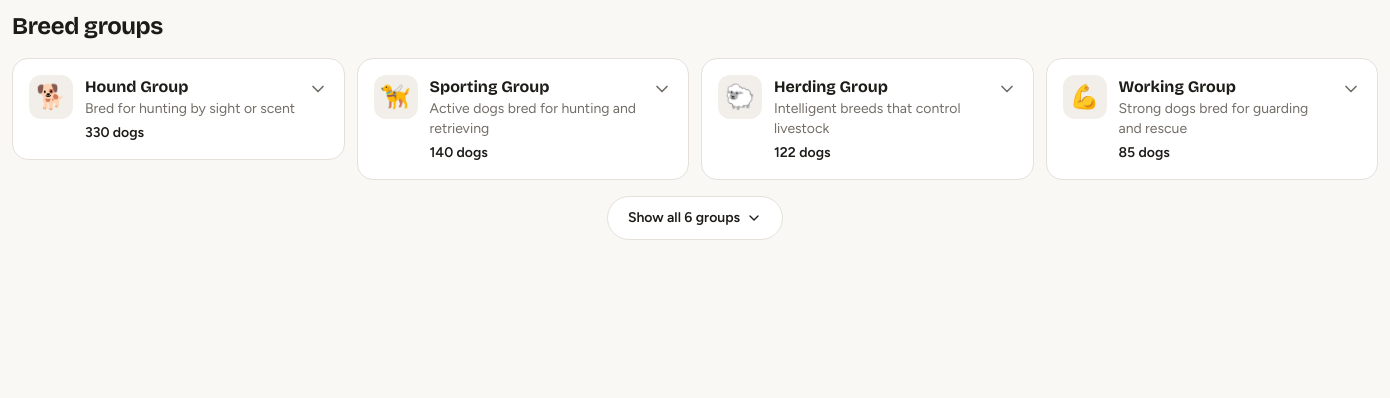
Test: BreedGroupsSection › toggles breed display when group is clicked again
Note: First click - expand
What coordinates should you click on to do the following:
click the button with test id "breed-group-hound-group"
I would click on:
 (178, 109)
Its box is [13,59,344,159].
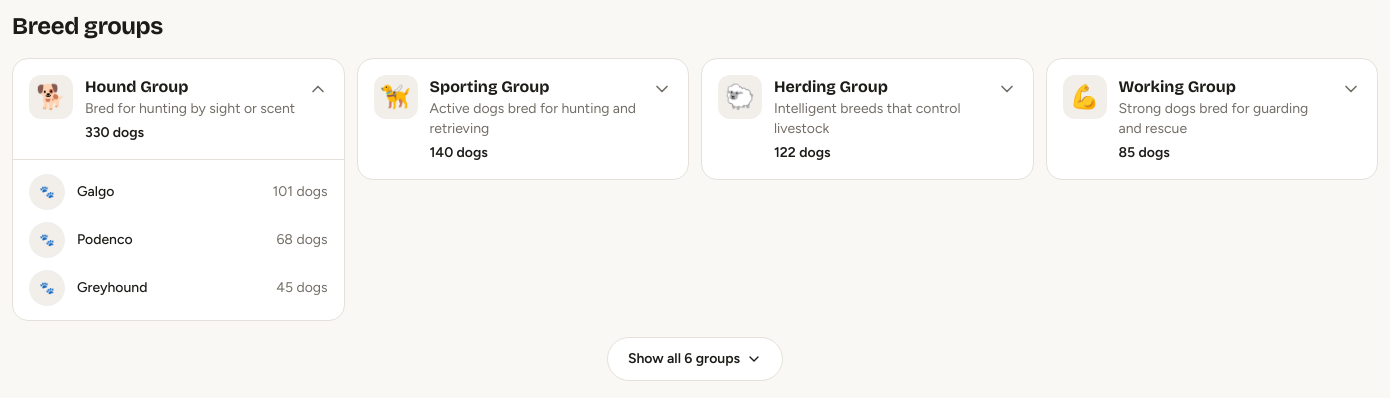
Now the text "Galgo" is shown, box [77,182,114,202]
Note: Second click - collapse
What coordinates should you click on to do the following:
click the button with test id "breed-group-hound-group"
I would click on:
 (178, 109)
Its box is [13,59,344,159].
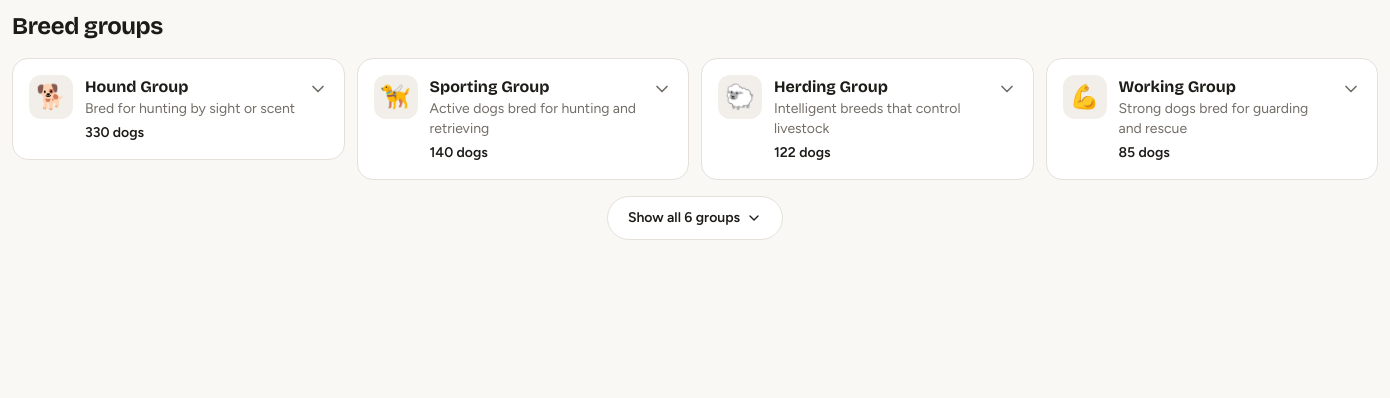
Now the link "Galgo" is gone
